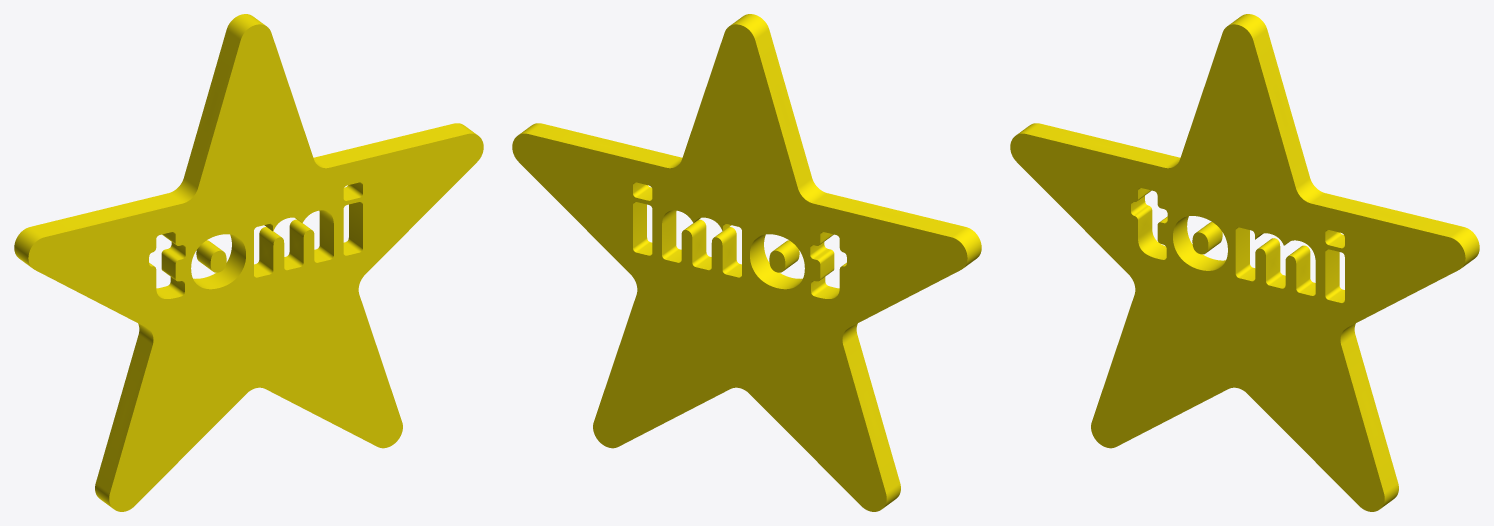
File: tomi.obj
The picture shows the model from 3 angles, left to right: view 1: azimuth 30°, elevation 25°; view 2: azimuth 150°, elevation 25°; view 3: azimuth 330°, elevation 25°; orthographic projection.
Visible parts, largest first — view 1: groupNumber_1, groupNumber_0; view 2: groupNumber_1, groupNumber_0; view 3: groupNumber_1, groupNumber_0.
Part boxes in pixels (x1,y1,x2,y2): groupNumber_1: (14,14,483,511); groupNumber_0: (196,240,226,272); groupNumber_1: (512,14,981,511); groupNumber_0: (769,240,799,272); groupNumber_1: (1010,14,1479,511); groupNumber_0: (1192,222,1222,254).
Bounding box in the file's own units: 32.66 × 31.18 × 1.76.
